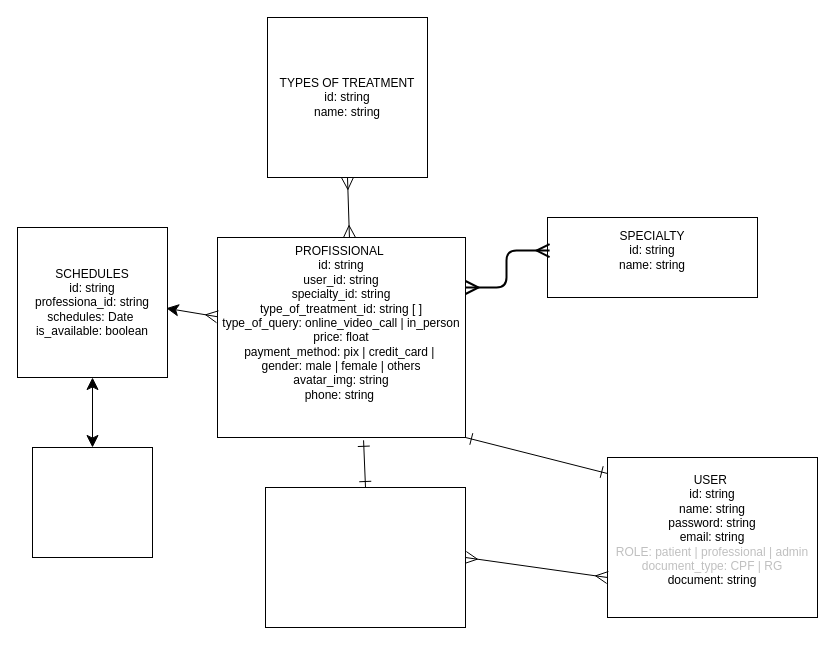
Image size: 835x645. Some labels were removed from this diagram. The shapes that lost their labels are listed below. From the top down, each one's centre as x and y in pixels, then its label:
the point at 92,502: USER AGENDA id: string schedule_id: string
the point at 365,557: PROFESSIONAL AND PATIENT id: string professional_id: string user_id: string
